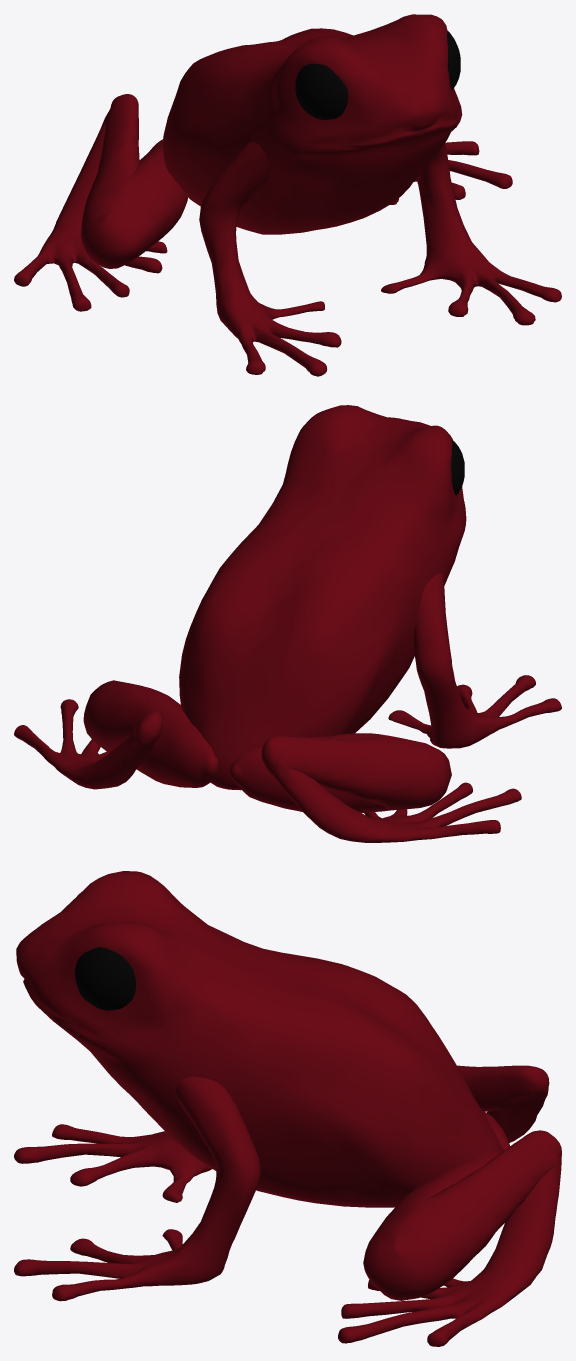
File: poison_dart_frog_with_animation.glb
3 renders of one model, top to bottom at view 1: azimuth 30°, elevation 25°; view 2: azimuth 150°, elevation 25°; view 3: azimuth 270°, elevation 25°, orthographic. The views are drawn at different scales.
Parts seen in each view (by area): view 1: splendid dart frog_0; view 2: splendid dart frog_0; view 3: splendid dart frog_0.
Part boxes in pixels (x1,y1,x2,y2): splendid dart frog_0: [14, 14, 561, 376]; splendid dart frog_0: [14, 405, 561, 842]; splendid dart frog_0: [14, 871, 561, 1346].
Bounding box in the file's own units: 0.2418 × 0.1373 × 0.2132.
